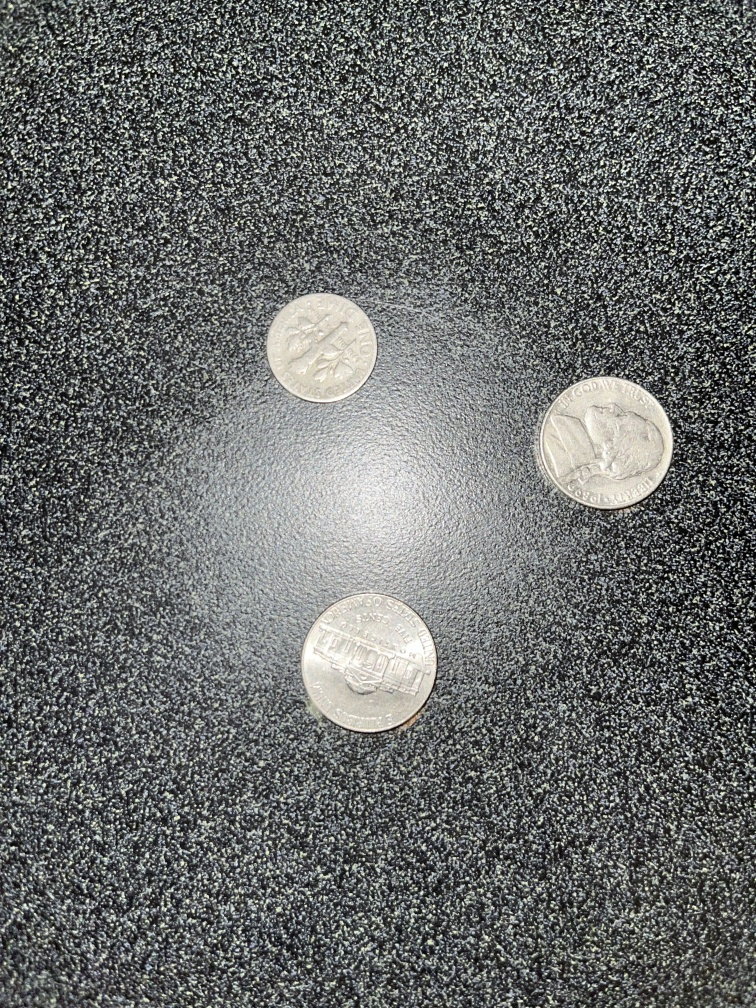dime: (257, 285, 386, 410)
nickel: (531, 372, 682, 522), (296, 587, 442, 741)
